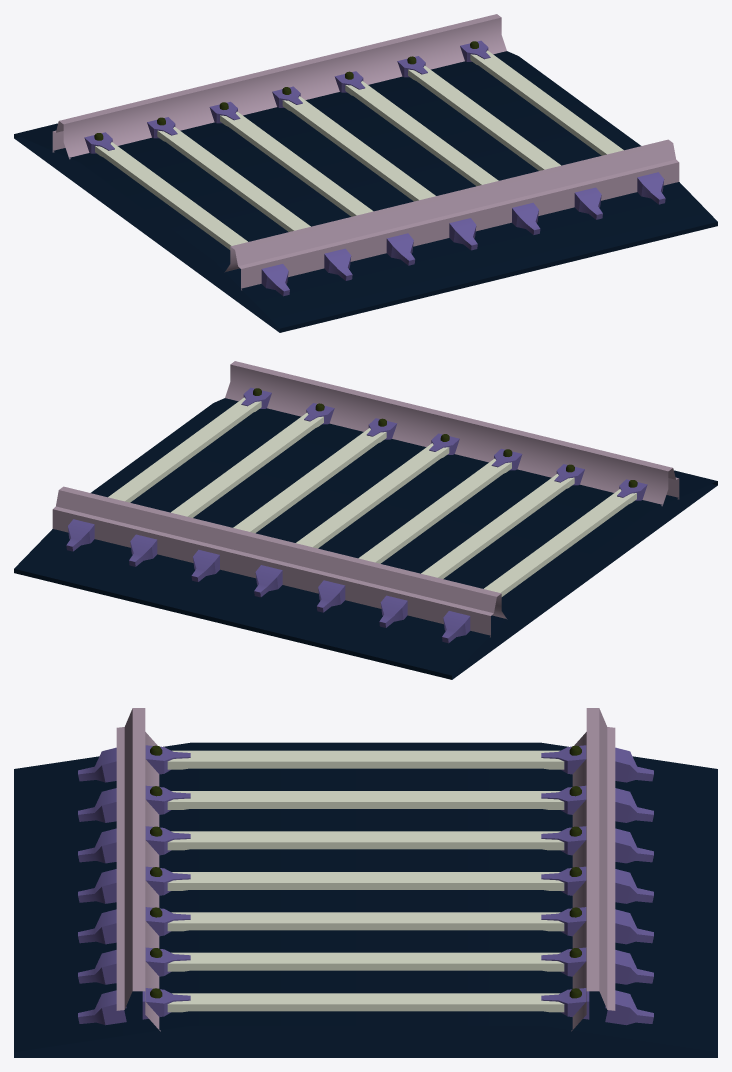
Rendered from traintrack.glb.
3 views of the same model, one above another, from view 1: azimuth 30°, elevation 25°; view 2: azimuth 150°, elevation 25°; view 3: azimuth 270°, elevation 25° (orthographic). The views are drawn at different scales.
Parts seen in each view (by area): view 1: Cube; view 2: Cube; view 3: Cube.
Part boxes in pixels (x1,y1,x2,y2): Cube: (14, 14, 717, 332); Cube: (14, 361, 717, 679); Cube: (14, 708, 717, 1057).
Bounding box in the file's own units: 3.81 × 0.4174 × 4.
Materials: 1 (1 with a texture image).
